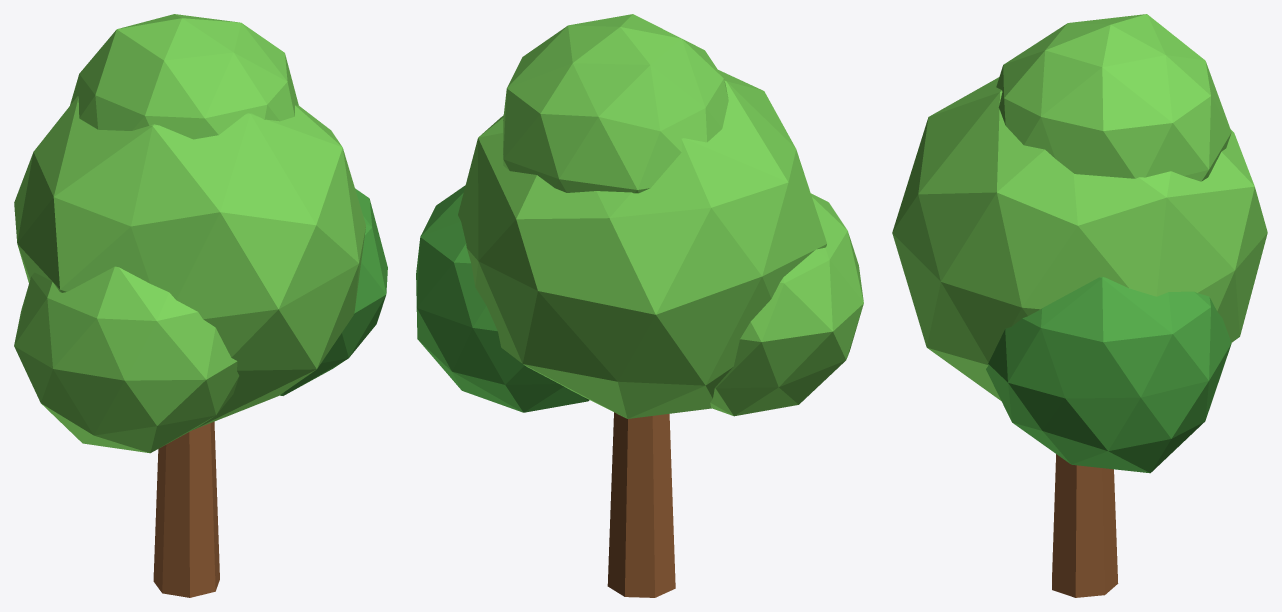
File: tree_round.glb
3 renders of one model, left to right at view 1: azimuth 30°, elevation 25°; view 2: azimuth 150°, elevation 25°; view 3: azimuth 270°, elevation 25°, orthographic. The views are drawn at different scales.
Parts seen in each view (by area): view 1: tree_round; view 2: tree_round; view 3: tree_round.
Part boxes in pixels (x1,y1,x2,y2): tree_round: (14, 14, 387, 597); tree_round: (416, 14, 863, 597); tree_round: (892, 14, 1267, 597).
Size of the model in its own units: 1.76 by 2.5 by 1.51.
